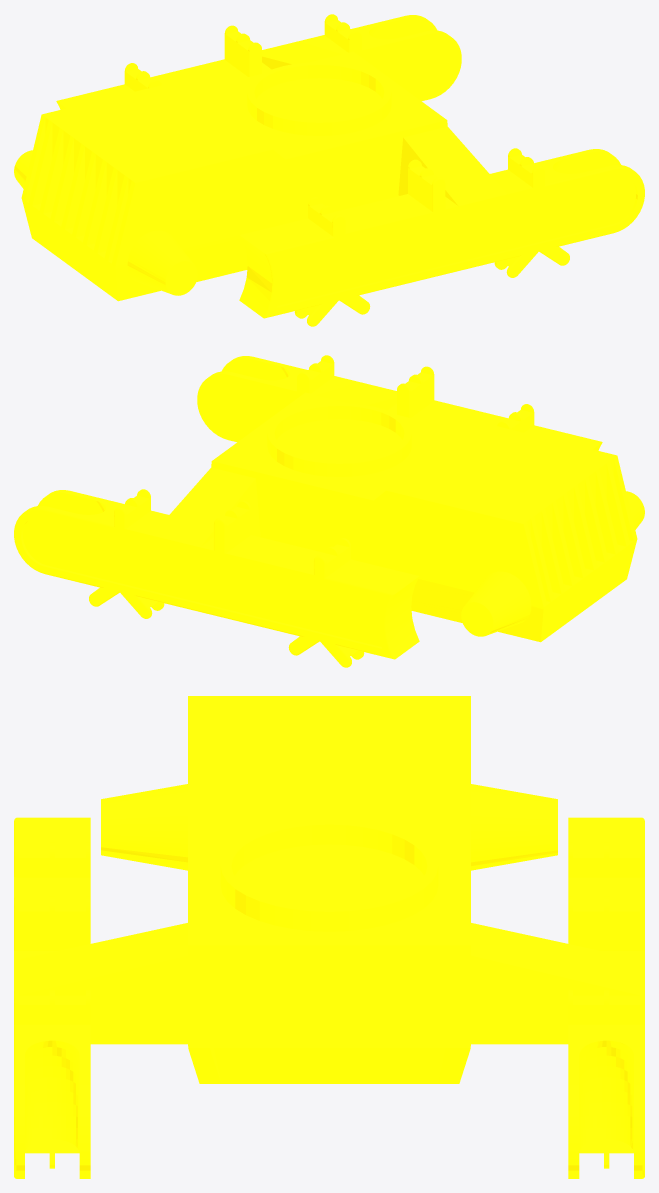
The model's file is drivetrain.dae.
3 views of the same model, one above another, from view 1: azimuth 30°, elevation 25°; view 2: azimuth 150°, elevation 25°; view 3: azimuth 270°, elevation 25° (orthographic). The views are drawn at different scales.
Visible parts, largest first — view 1: drivetrain; view 2: drivetrain; view 3: drivetrain.
Part boxes in pixels (box(x1,y1,x2,y2)): drivetrain: box(14, 14, 644, 326); drivetrain: box(14, 355, 644, 667); drivetrain: box(14, 696, 644, 1178).
Size of the model in its own units: 3.36 by 2.58 by 0.8933.
